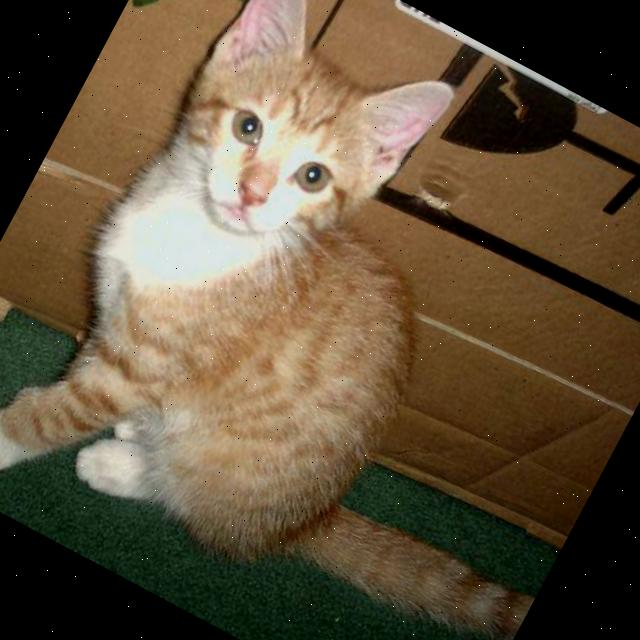cat-eye-normal: (276, 144, 352, 212), (210, 92, 281, 161)
